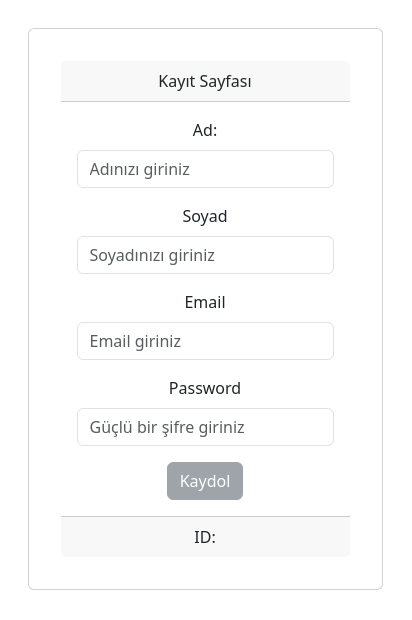
it: Register Page › Error Messages › Surname input throws error for 2 chars
Type "gü" into the field with test id "soyad-input". click: (206, 255)
box: left=77, top=236, right=334, bottom=274
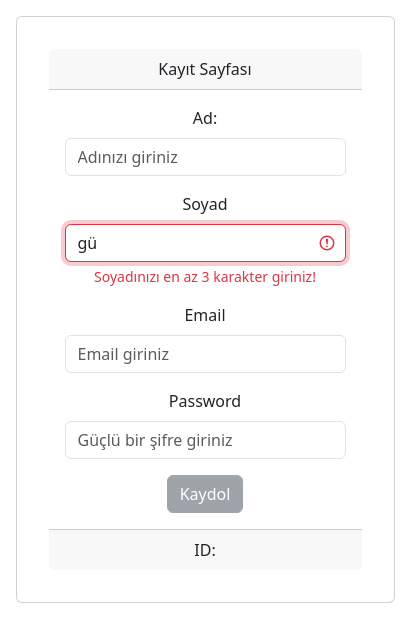
Expected: the text "Soyadınızı en az 3 karakter giriniz!" is shown, left=94, top=266, right=316, bottom=286
